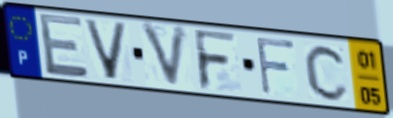C: (302, 42, 351, 103)
E: (36, 11, 92, 80)
F: (192, 27, 240, 94), (253, 34, 298, 97)
V: (137, 20, 191, 93), (81, 17, 130, 83)
